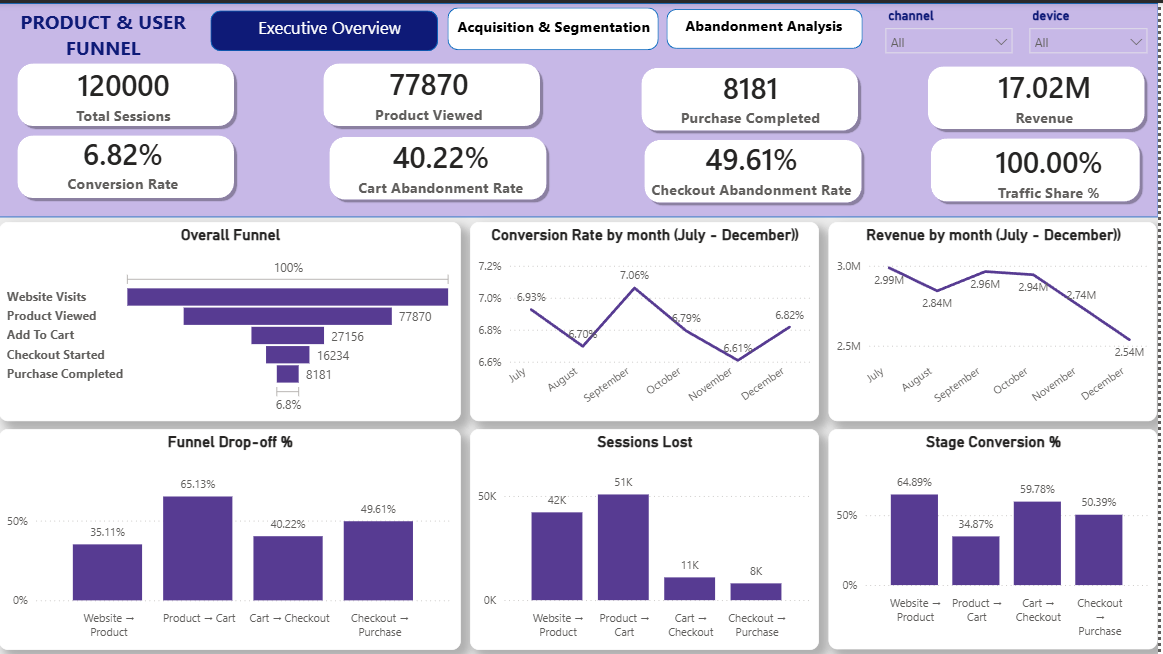

The dashboard page shown, as its layout file describes it:
{"tool":"powerbi","page":{"name":"Executive Overview","canvas":[1280,720],"ordinal":0},"visuals":[{"type":"shape","box":[0,0,1280.5,236.8],"z":0},{"type":"shape","box":[495.3,5.2,233.1,47],"z":0,"group":"g2"},{"type":"shape","box":[738.6,6,216.6,44],"z":0,"group":"g3"},{"type":"shape","box":[233.7,7.4,251.2,44.9],"z":0,"group":"g1"},{"type":"shape","box":[15.7,60.1,250,80],"z":0,"group":"g4"},{"type":"shape","box":[352.8,61.7,250,80],"z":0,"group":"g5"},{"type":"shape","box":[1020.4,65.1,250,80],"z":0,"group":"g7"},{"type":"shape","box":[704.5,66.3,250,80],"z":0,"group":"g6"},{"type":"shape","box":[15.7,139.7,250,80],"z":0,"group":"g8"},{"type":"shape","box":[359.2,142.2,250.4,80],"z":0,"group":"g9"},{"type":"shape","box":[708.3,145.2,250.6,80],"z":0,"group":"g10"},{"type":"shape","box":[1023.7,145.2,241.5,80.4],"z":0,"group":"g11"},{"type":"textbox","box":[0,0,230.3,79.5],"z":1000},{"type":"actionButton","title":"EXECUTIVE OVERVIEW","box":[478.6,0,267.9,50.7],"z":1000,"group":"g2"},{"type":"actionButton","title":"EXECUTIVE OVERVIEW","box":[711.4,0,267.9,47.9],"z":1000,"group":"g3"},{"type":"actionButton","title":"EXECUTIVE OVERVIEW","box":[230.3,4.9,269.5,43.2],"z":1000,"group":"g1"},{"type":"cardVisual","fields":{"Data":["_measures.Purchase Completed"]},"box":[708.4,46.2,245.1,115.1],"z":1000,"group":"g6"},{"type":"cardVisual","fields":{"Data":["_measures.Product Viewed"]},"box":[367.2,48.3,214.5,103.9],"z":1000,"group":"g5"},{"type":"cardVisual","fields":{"Data":["_measures.Total Sessions"]},"box":[36.6,49.2,202.2,104],"z":1000,"group":"g4"},{"type":"cardVisual","fields":{"Data":["_measures.Revenue"]},"box":[1052.9,51.4,202.2,104],"z":1000,"group":"g7"},{"type":"cardVisual","fields":{"Data":["_measures.Convertion Rate"]},"box":[46.5,125.4,181.2,103],"z":1000,"group":"g8"},{"type":"cardVisual","fields":{"Data":["_measures.Checkout Abandonment Rate"]},"box":[689.9,130.1,284.7,105.4],"z":1000,"group":"g10"},{"type":"cardVisual","fields":{"Data":["_measures.Cart Abondonment Rate"]},"box":[363.6,134,247.3,93.5],"z":1000,"group":"g9"},{"type":"cardVisual","fields":{"Data":["_measures.Traffic Share %"]},"box":[1068.9,134.9,182.2,103.6],"z":1000,"group":"g11"},{"type":"group","id":"g1","title":"title1","box":[230.3,4.9,269.5,47.4],"z":2000},{"type":"group","id":"g2","title":"title2","box":[478.6,0,267.6,52.2],"z":3000},{"type":"group","id":"g3","title":"title3","box":[711.4,0,267.6,50],"z":4000},{"type":"slicer","title":"Channel slicer","fields":{"Values":["final_d2c_marketing_funnel_data.channel"]},"box":[968.6,0,160.1,57.2],"z":5000},{"type":"slicer","title":"device slicer","fields":{"Values":["final_d2c_marketing_funnel_data.device"]},"box":[1128.6,0,150.3,57.2],"z":6000},{"type":"group","id":"g4","title":"Total Sessions","box":[15.7,49.2,250,104],"z":8000},{"type":"group","id":"g5","title":"Product Viewed","box":[352.8,48.3,250,103.9],"z":9000},{"type":"group","id":"g6","title":"Purchase Completed","box":[704.5,46.2,250,115.1],"z":10000},{"type":"group","id":"g7","title":"Revenue","box":[1020.4,51.4,250,104],"z":11000},{"type":"group","id":"g8","title":"Convertion Rate","box":[15.7,125.4,249.3,103.5],"z":12000},{"type":"group","id":"g9","title":"Cart Abondonment Rate","box":[359.2,134,251.8,93.5],"z":13000},{"type":"group","id":"g10","title":"Checkout Abondonment rate","box":[689.9,130.1,283.8,105.1],"z":14000},{"type":"funnel","title":"Overall Funnel","fields":{"Category":["Funnel DF.Stage"],"Y":["_measures.Funnel Sessions"]},"box":[0,242.5,510.3,220.3],"z":15000},{"type":"lineChart","title":"Conversion Rate by month (July - December))","fields":{"Category":["final_d2c_marketing_funnel_data.month_name"],"Y":["_measures.Convertion Rate"]},"box":[519.8,242.5,385.1,220.3],"z":16000},{"type":"lineChart","title":"Revenue by month (July - December))","fields":{"Category":["final_d2c_marketing_funnel_data.month_name"],"Y":["_measures.Revenue"]},"box":[916,242.5,362.9,220.3],"z":17000},{"type":"clusteredColumnChart","title":"Funnel Drop-off % ","fields":{"Category":["Funnel Transitions.Funnel Transition"],"Y":["_measures.Funnel Drop-off %"]},"box":[0,470,509.7,244.2],"z":18000},{"type":"clusteredColumnChart","title":"Sessions Lost ","fields":{"Category":["Funnel Transitions.Funnel Transition"],"Y":["_measures.Sessions Lost"]},"box":[520,470,385,244],"z":19000},{"type":"clusteredColumnChart","title":"Stage Conversion %","fields":{"Category":["Funnel Transitions.Funnel Transition"],"Y":["_measures.Stage Convertion %"]},"box":[916.1,470,363.3,243.4],"z":20000},{"type":"group","id":"g11","title":"Top Campaign","box":[1023.7,134.9,241.5,103.6],"z":21000}]}

Visuals, with their boxes in screenshot pixels (x1, y1, x2, y2), scaled from the page's 1280x720 canvas onto the 1163x654 screenshot:
shape: (x1=0, y1=0, x2=1162, y2=215)
shape: (x1=450, y1=5, x2=662, y2=47)
shape: (x1=671, y1=5, x2=868, y2=45)
shape: (x1=212, y1=7, x2=441, y2=48)
shape: (x1=14, y1=55, x2=241, y2=127)
shape: (x1=321, y1=56, x2=548, y2=129)
shape: (x1=927, y1=59, x2=1154, y2=132)
shape: (x1=640, y1=60, x2=867, y2=133)
shape: (x1=14, y1=127, x2=241, y2=200)
shape: (x1=326, y1=129, x2=554, y2=202)
shape: (x1=644, y1=132, x2=871, y2=205)
shape: (x1=930, y1=132, x2=1150, y2=205)
textbox: (x1=0, y1=0, x2=209, y2=72)
"EXECUTIVE OVERVIEW" actionButton: (x1=435, y1=0, x2=678, y2=46)
"EXECUTIVE OVERVIEW" actionButton: (x1=646, y1=0, x2=890, y2=44)
"EXECUTIVE OVERVIEW" actionButton: (x1=209, y1=4, x2=454, y2=44)
cardVisual - _measures.Purchase Completed: (x1=644, y1=42, x2=866, y2=147)
cardVisual - _measures.Product Viewed: (x1=334, y1=44, x2=529, y2=138)
cardVisual - _measures.Total Sessions: (x1=33, y1=45, x2=217, y2=139)
cardVisual - _measures.Revenue: (x1=957, y1=47, x2=1140, y2=141)
cardVisual - _measures.Convertion Rate: (x1=42, y1=114, x2=207, y2=207)
cardVisual - _measures.Checkout Abandonment Rate: (x1=627, y1=118, x2=886, y2=214)
cardVisual - _measures.Cart Abondonment Rate: (x1=330, y1=122, x2=555, y2=207)
cardVisual - _measures.Traffic Share %: (x1=971, y1=123, x2=1137, y2=217)
"title1" group: (x1=209, y1=4, x2=454, y2=48)
"title2" group: (x1=435, y1=0, x2=678, y2=47)
"title3" group: (x1=646, y1=0, x2=890, y2=45)
"Channel slicer" slicer: (x1=880, y1=0, x2=1026, y2=52)
"device slicer" slicer: (x1=1025, y1=0, x2=1162, y2=52)
"Total Sessions" group: (x1=14, y1=45, x2=241, y2=139)
"Product Viewed" group: (x1=321, y1=44, x2=548, y2=138)
"Purchase Completed" group: (x1=640, y1=42, x2=867, y2=147)
"Revenue" group: (x1=927, y1=47, x2=1154, y2=141)
"Convertion Rate" group: (x1=14, y1=114, x2=241, y2=208)
"Cart Abondonment Rate" group: (x1=326, y1=122, x2=555, y2=207)
"Checkout Abondonment rate" group: (x1=627, y1=118, x2=885, y2=214)
"Overall Funnel" funnel: (x1=0, y1=220, x2=464, y2=420)
"Conversion Rate by month (July - December))" lineChart: (x1=472, y1=220, x2=822, y2=420)
"Revenue by month (July - December))" lineChart: (x1=832, y1=220, x2=1162, y2=420)
"Funnel Drop-off % " clusteredColumnChart: (x1=0, y1=427, x2=463, y2=649)
"Sessions Lost " clusteredColumnChart: (x1=472, y1=427, x2=822, y2=649)
"Stage Conversion %" clusteredColumnChart: (x1=832, y1=427, x2=1162, y2=648)
"Top Campaign" group: (x1=930, y1=123, x2=1150, y2=217)
